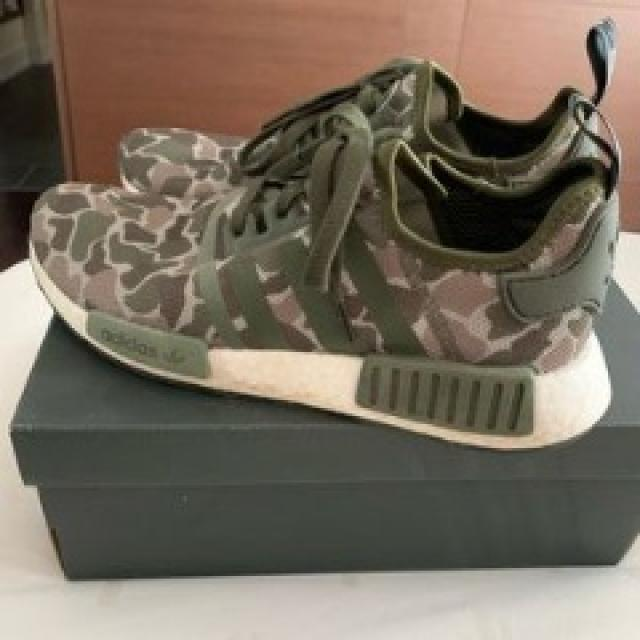shoes: (0, 149, 634, 459), (86, 55, 640, 215)
